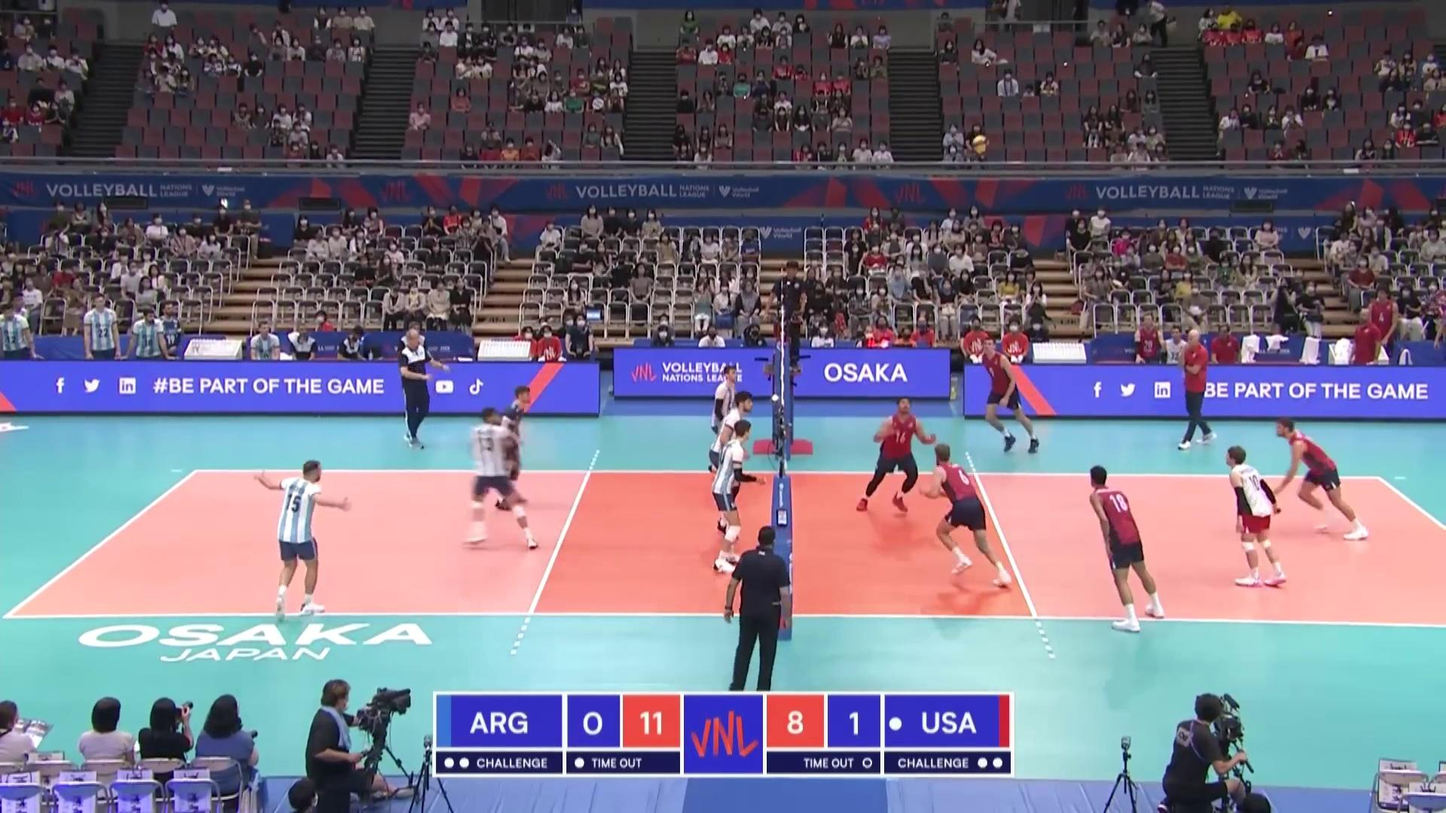player: (258, 461, 347, 619), (1087, 466, 1165, 631), (924, 445, 1012, 589), (1269, 418, 1369, 541), (466, 407, 543, 551), (1222, 445, 1287, 589), (855, 397, 934, 513), (713, 422, 762, 578), (980, 338, 1041, 455), (710, 392, 754, 536), (491, 387, 533, 512), (708, 366, 743, 483)
refree: (723, 527, 795, 687), (773, 261, 808, 368)
